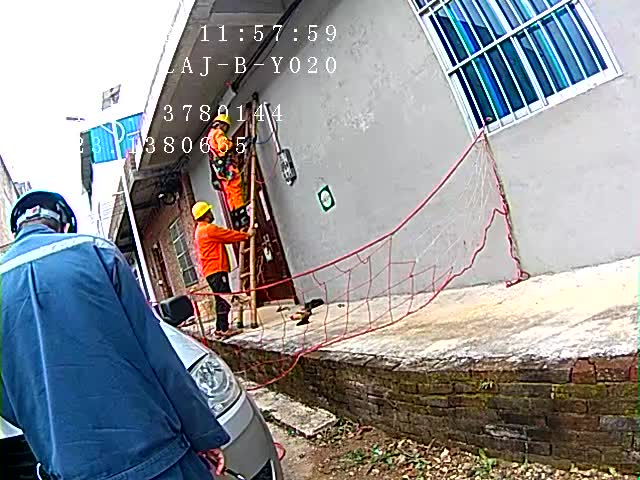downcloth: (209, 281, 233, 331)
halt: (9, 189, 78, 237), (193, 202, 214, 224), (213, 115, 230, 128)
hand: (198, 445, 225, 471)
person: (1, 183, 191, 479), (190, 200, 245, 337), (204, 116, 251, 222)
shoe: (231, 205, 258, 228)
support: (187, 198, 258, 338)
upsuit: (1, 232, 187, 480)
worksign: (316, 183, 336, 210)
ydownsuit: (214, 162, 243, 205)
yupsuit: (196, 224, 235, 278), (205, 131, 236, 173)
